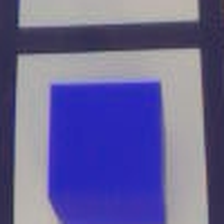cube: (36, 74, 182, 224)
